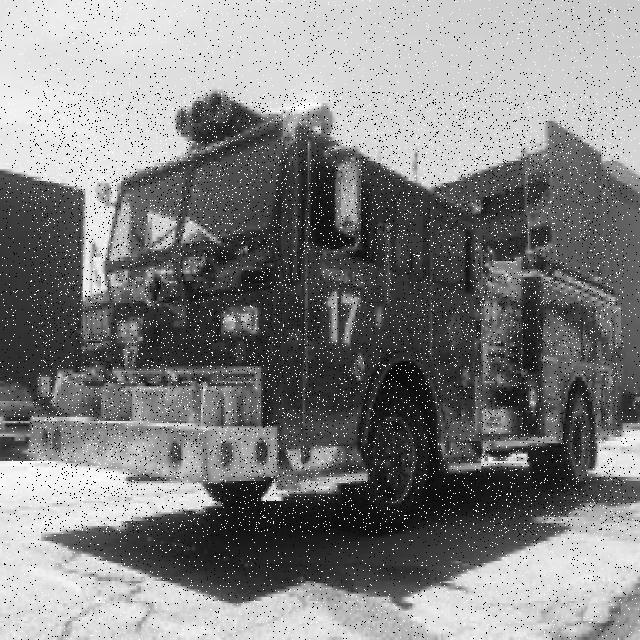Fire Truck: (30, 92, 624, 532)
